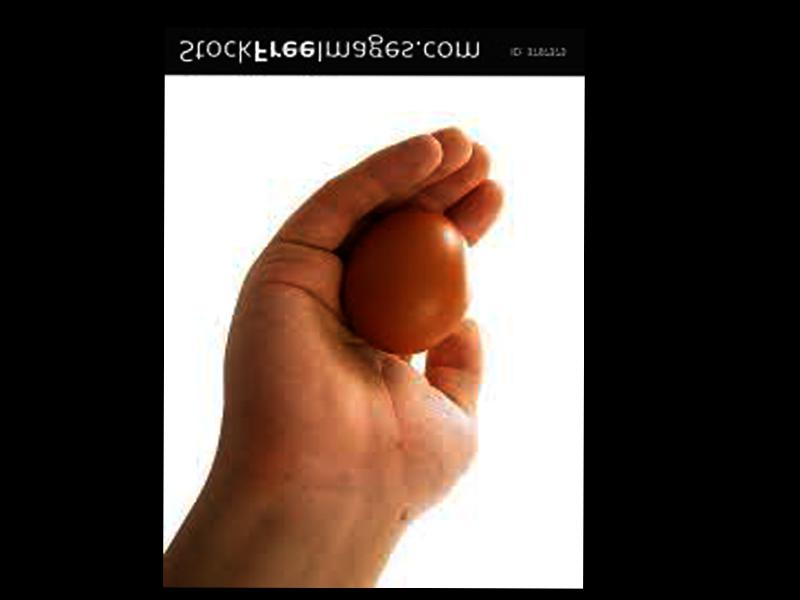Eggs: (346, 197, 469, 355)
